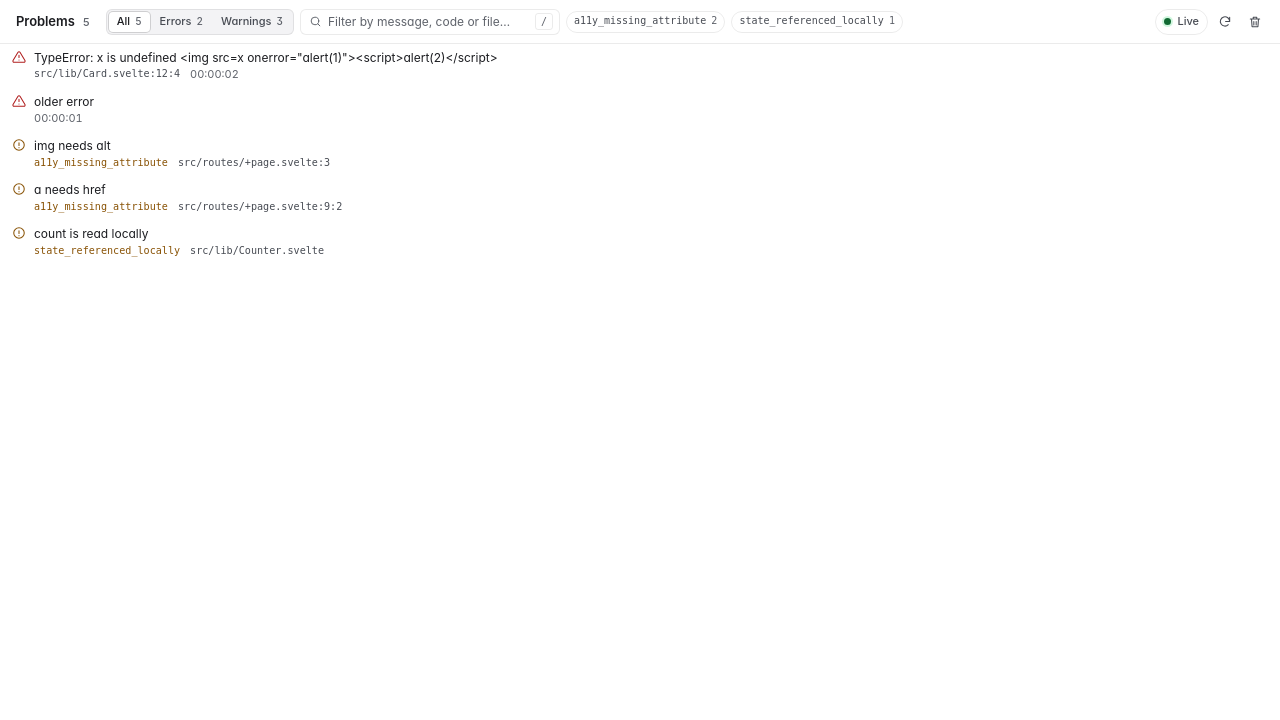
ErrorDashboard › clears recorded problems
Click the 1st option at point(255, 66), box [12,50,498,81]
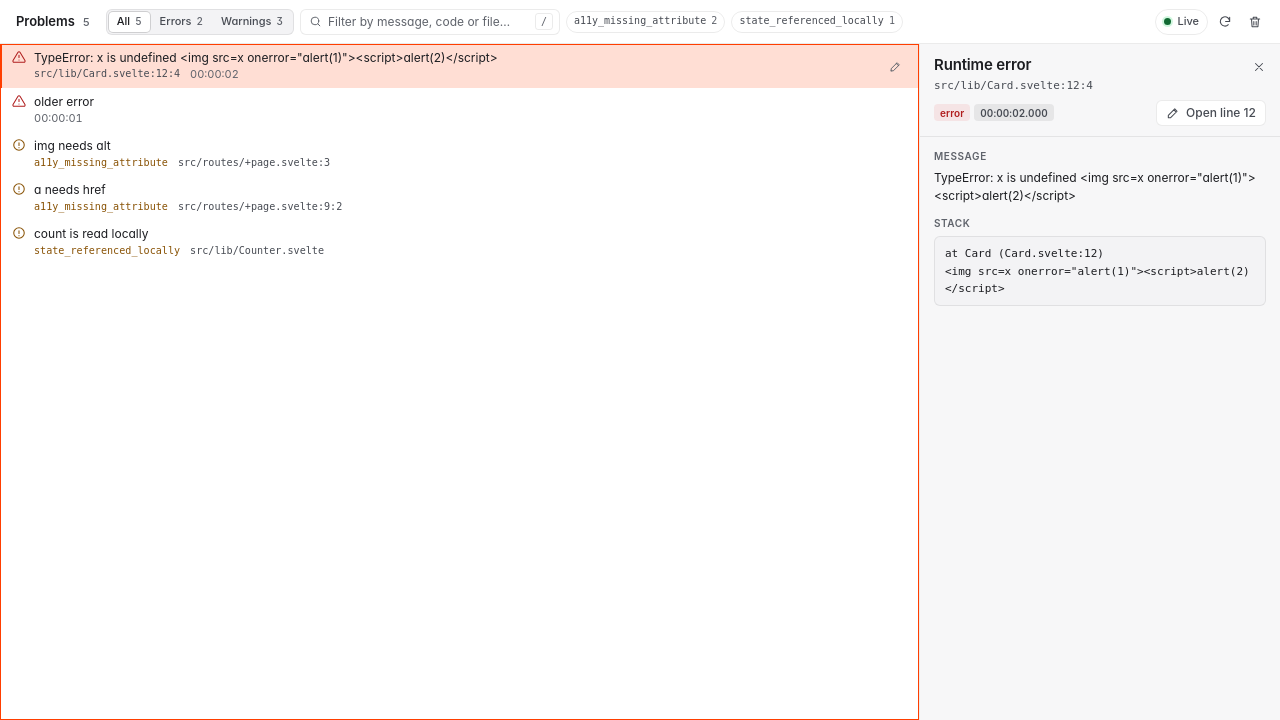
Click the button named "Clear recorded data" at point(1255, 22), box [1242,8,1268,34]
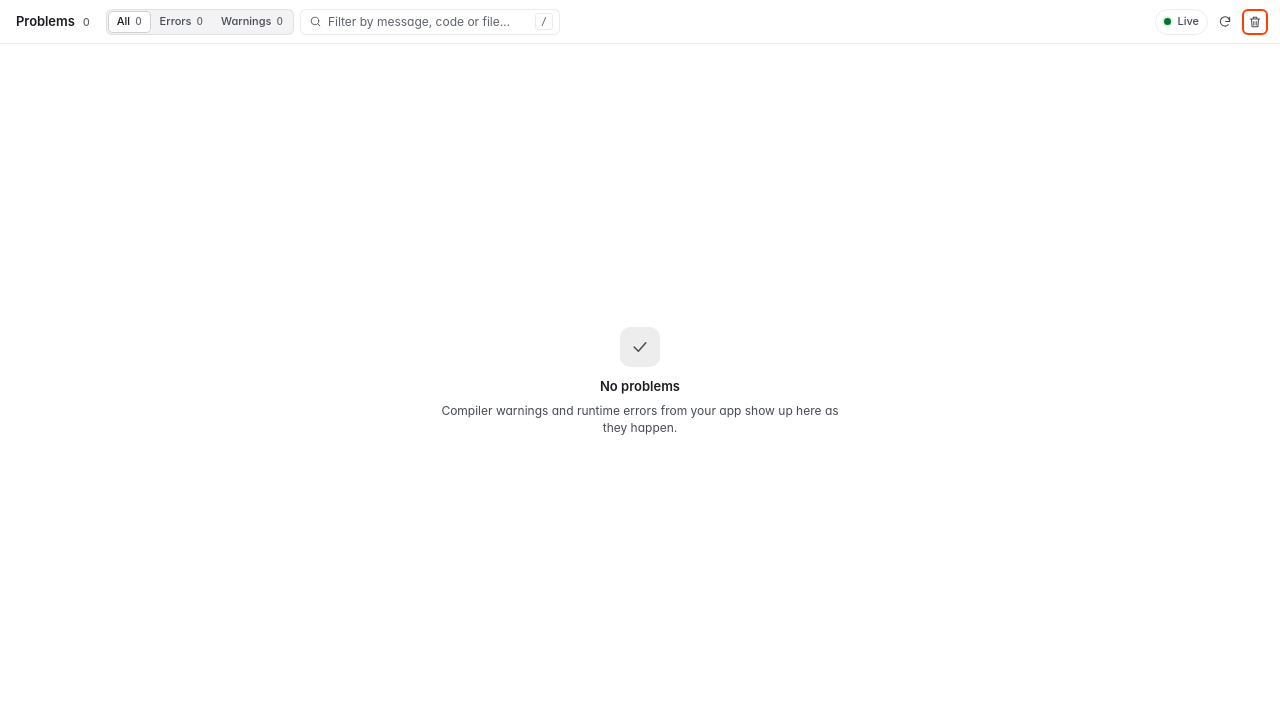
Expected: the text "No problems" is shown, [600,377,680,396]
